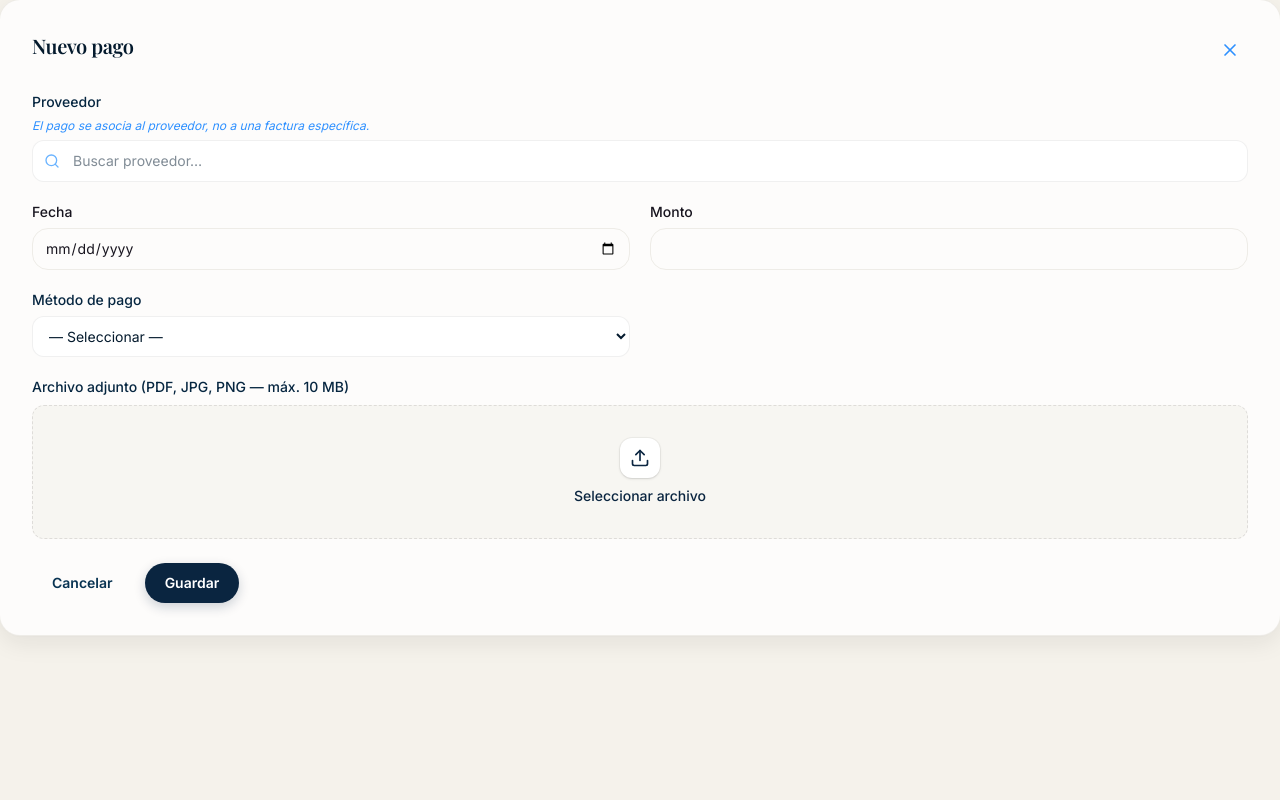
Scenario: PagoForm — client validation › blocks submission when no supplier is selected
Step 1. Click the button "Guardar" → (192, 583), box [145,563,239,603]
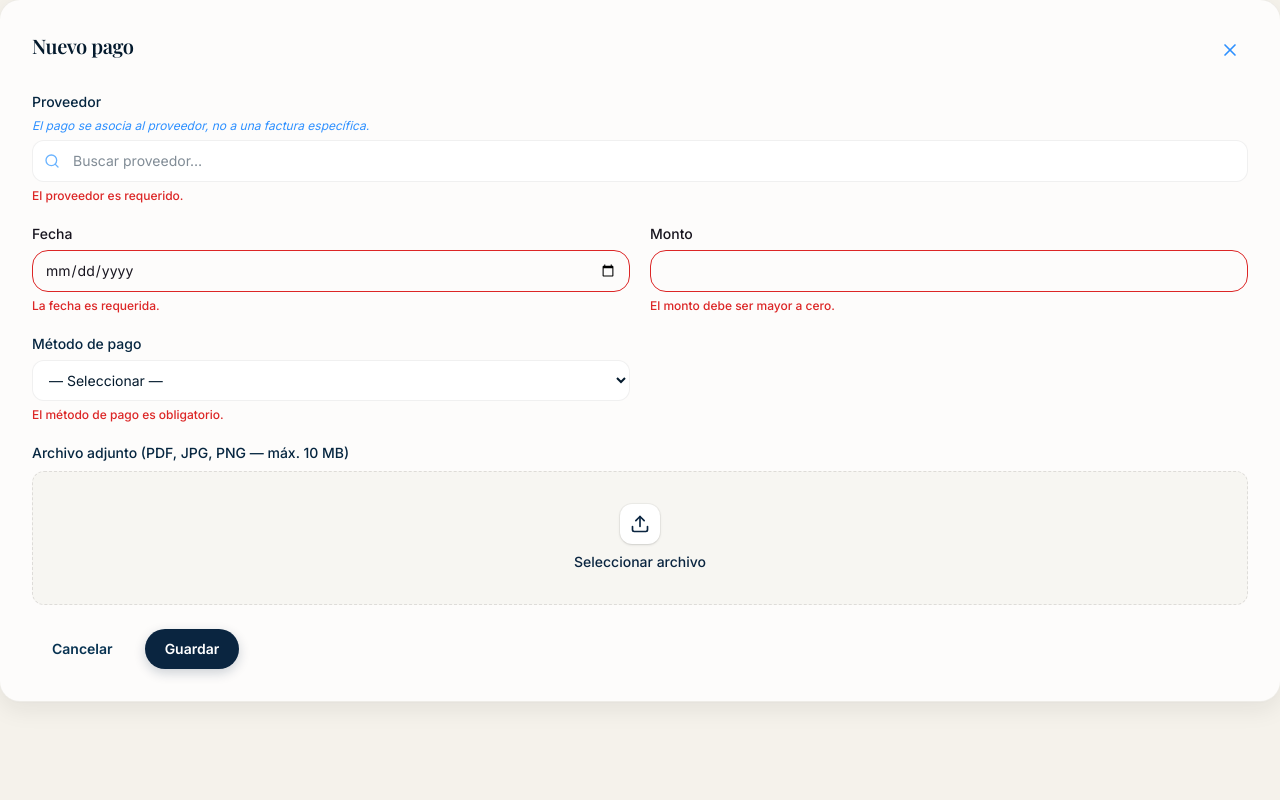
Result: the message "El proveedor es requerido." is shown at [32,188,184,203]
